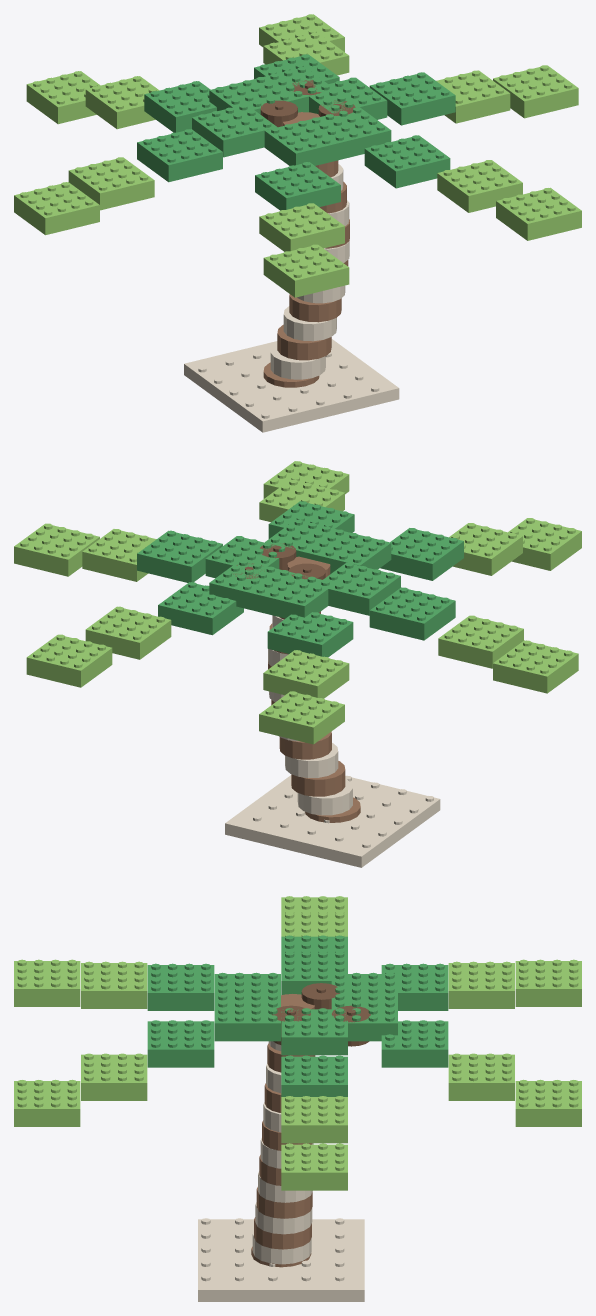
File: pixel_tree_palm.glb
The picture shows the model from 3 angles, top to bottom: view 1: azimuth 30°, elevation 25°; view 2: azimuth 150°, elevation 25°; view 3: azimuth 270°, elevation 25°; orthographic projection. The views are drawn at different scales.
Visible parts, largest first — view 1: LegoModel; view 2: LegoModel; view 3: LegoModel.
Boxes of the visible parts, box(x1,y1,x2,y2) form: LegoModel: box(14, 14, 581, 432); LegoModel: box(14, 461, 581, 867); LegoModel: box(14, 896, 581, 1301).
Size of the model in its own units: 9.45 by 4.5 by 8.23.
